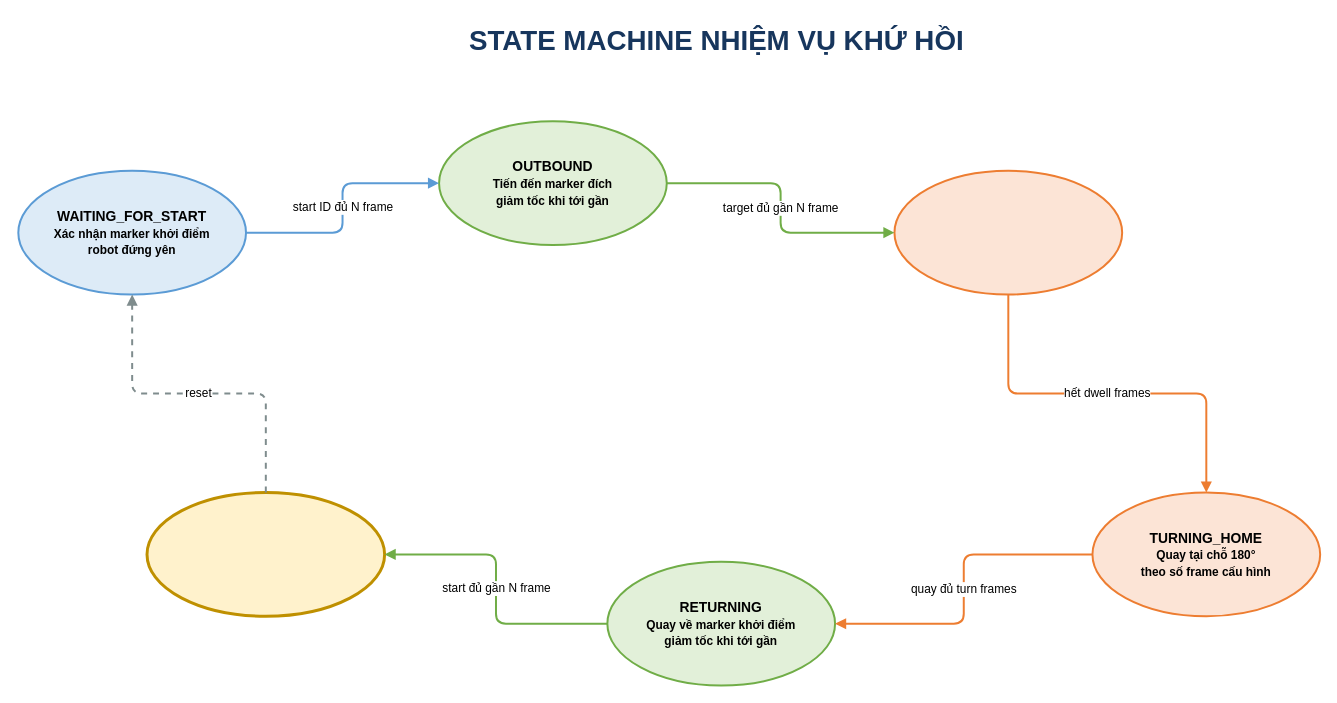
This 1337x703 diagram has some shape labels left out. Each missing label, with the centre of its shape:
AT_TARGET Dừng tại phòng đích chờ dwell frames: point 1008,232
HOME_COMPLETE Dừng tại điểm ban đầu khóa motor đến khi reset: point 265,554
